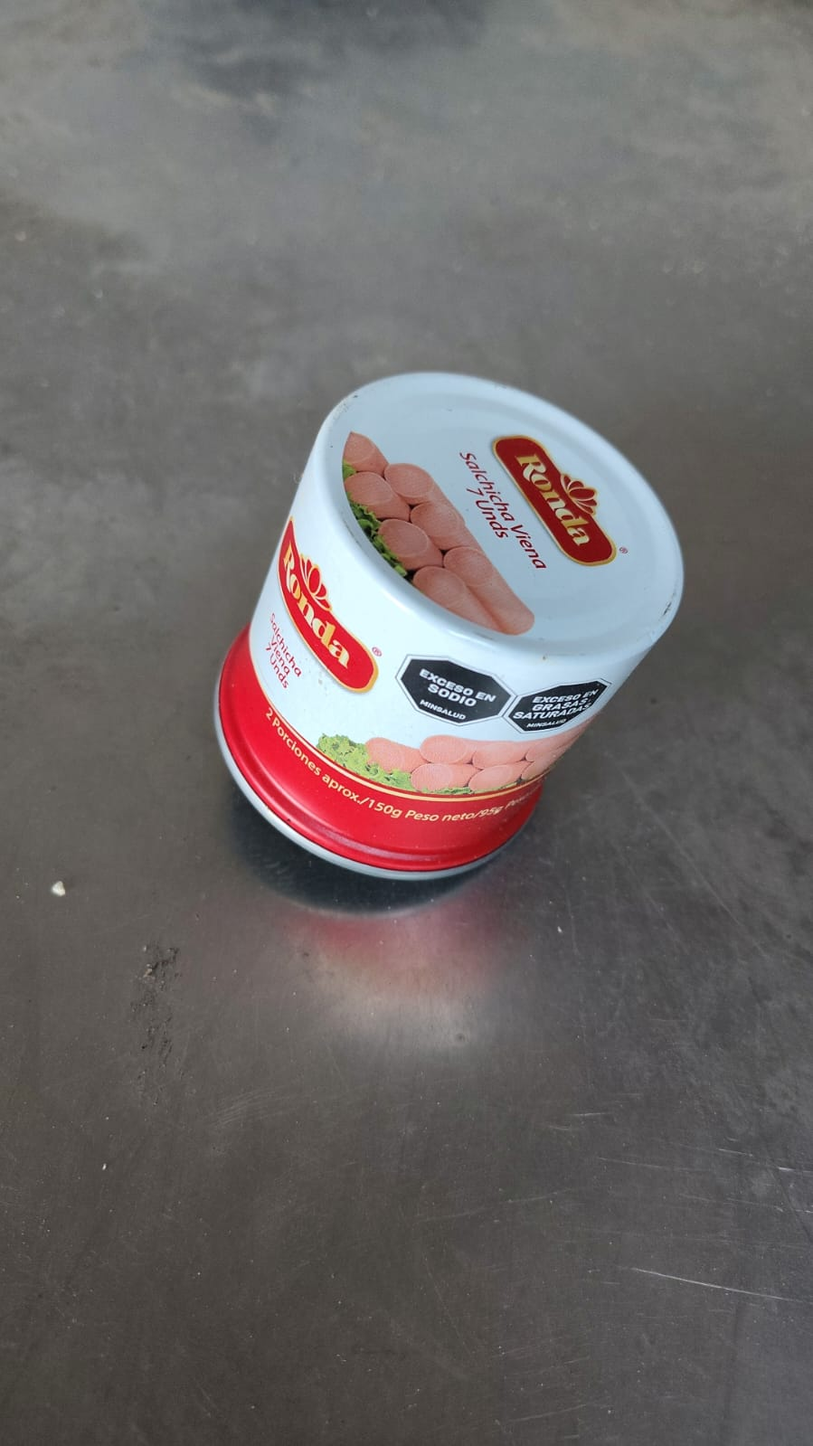Metal: (210, 367, 686, 885)
